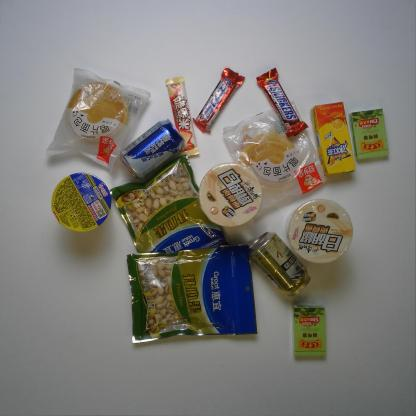Alcohol: (247, 230, 312, 300), (118, 117, 186, 182)
Candy: (348, 107, 392, 165), (289, 304, 330, 360)
Chocolate: (255, 66, 311, 140), (192, 65, 247, 136), (163, 75, 202, 160)
Dessert: (220, 96, 332, 211), (43, 63, 152, 176)
Dried Fruit: (107, 153, 232, 266), (123, 244, 261, 346)
Drink: (309, 100, 357, 177)
Instant Noodles: (286, 196, 356, 266), (198, 160, 264, 230), (51, 170, 113, 235)
